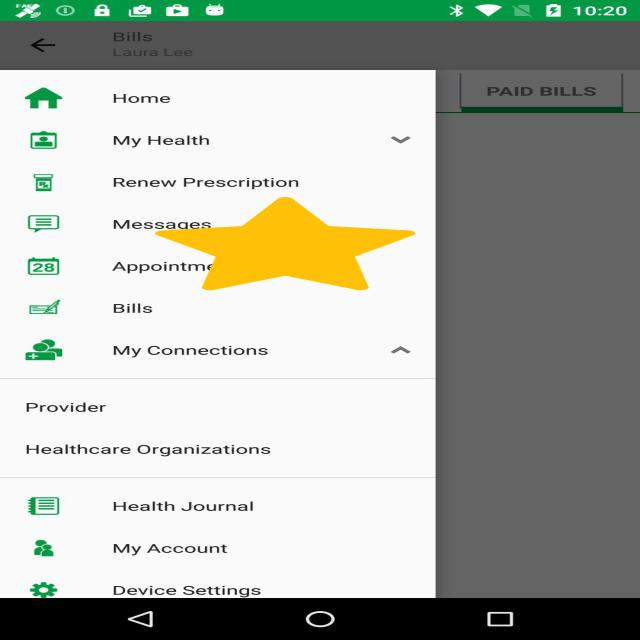forced continuity: (156, 197, 416, 290)
